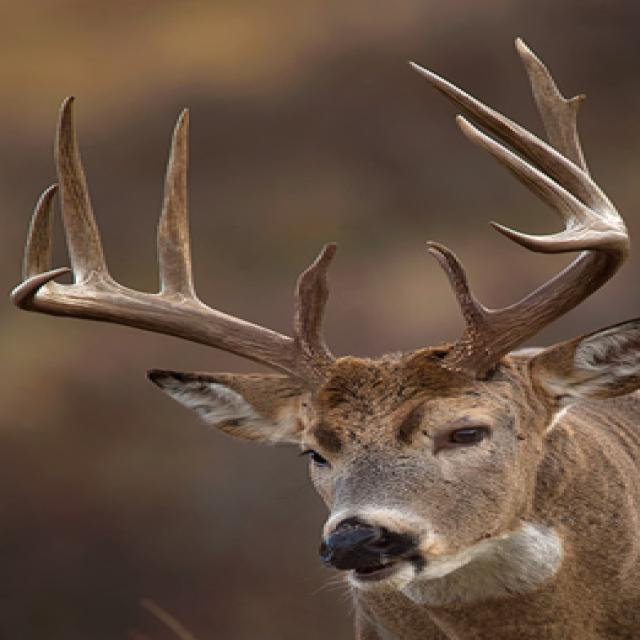L-F: (439, 219, 632, 379)
L-G1: (425, 240, 499, 330)
L-G3: (406, 59, 628, 234)
L-G4: (455, 113, 626, 234)
R-F: (10, 267, 338, 392)
R-G1: (291, 240, 340, 351)
R-G2: (156, 105, 197, 301)
R-G3: (54, 94, 121, 288)
